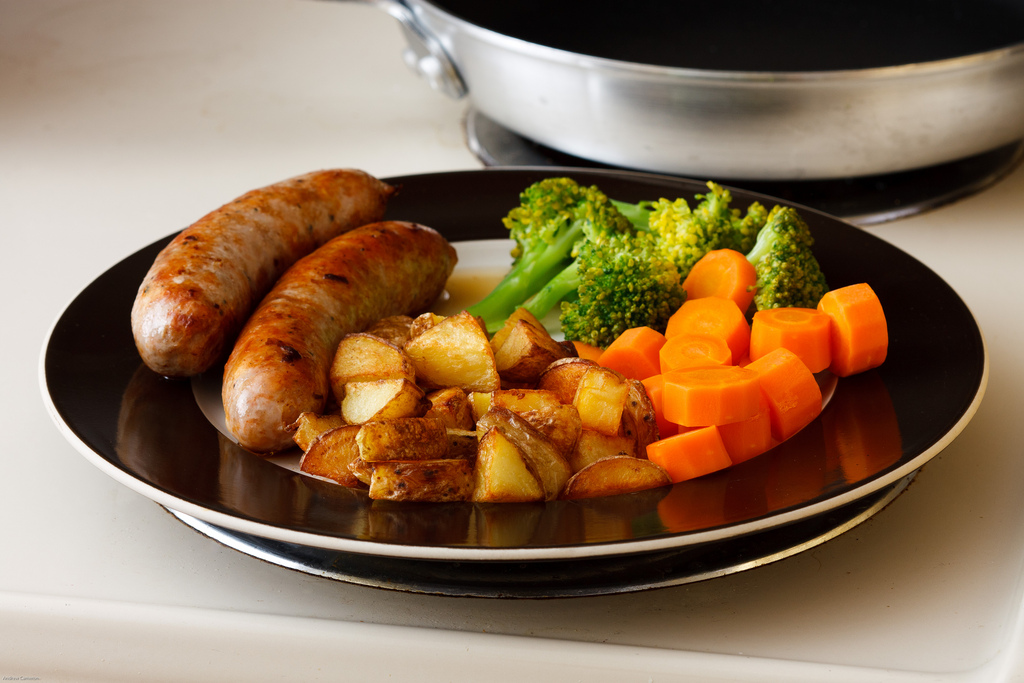boiled potatoes: (353, 310, 645, 497)
